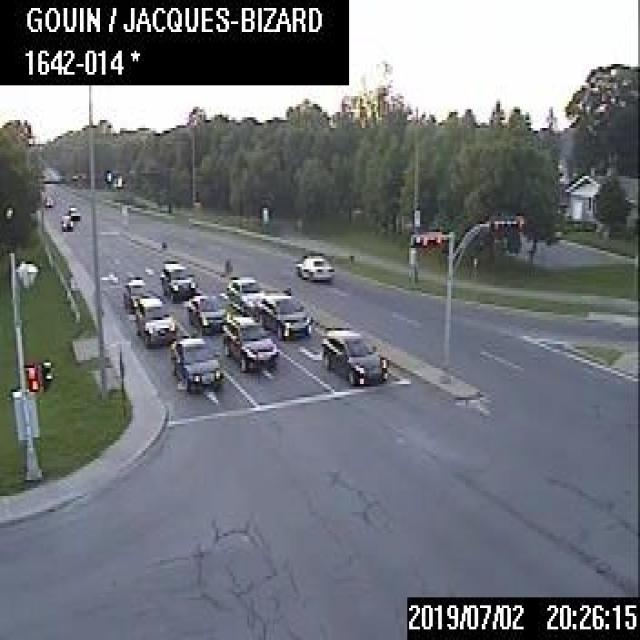vehicle: (320, 328, 388, 384), (221, 313, 277, 370), (169, 336, 222, 389), (254, 292, 310, 338), (133, 295, 173, 344), (186, 293, 225, 332), (159, 261, 196, 300), (226, 274, 264, 309), (294, 251, 333, 280), (122, 274, 145, 308), (60, 213, 72, 229), (67, 204, 79, 218), (42, 194, 52, 205)
